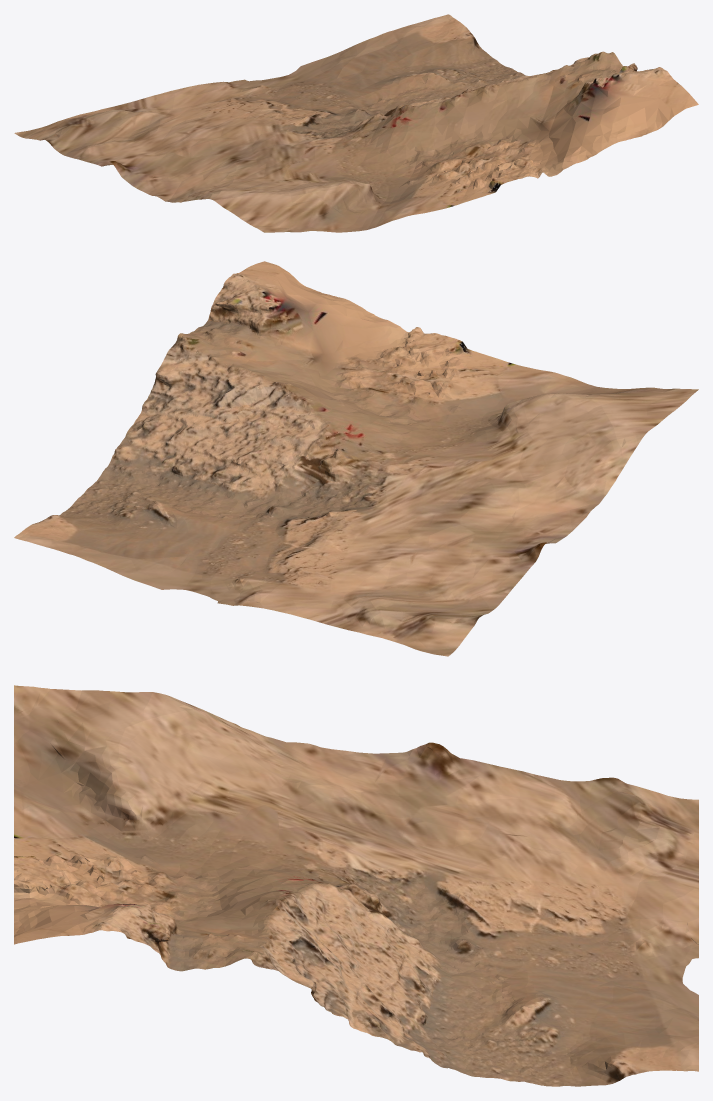
3 renders of one model, top to bottom at view 1: azimuth 30°, elevation 25°; view 2: azimuth 150°, elevation 25°; view 3: azimuth 270°, elevation 25°, orthographic. The views are drawn at different scales.
Size of the model in its own units: 2.09 by 0.5571 by 2.09.
3 materials, 3 textured.
